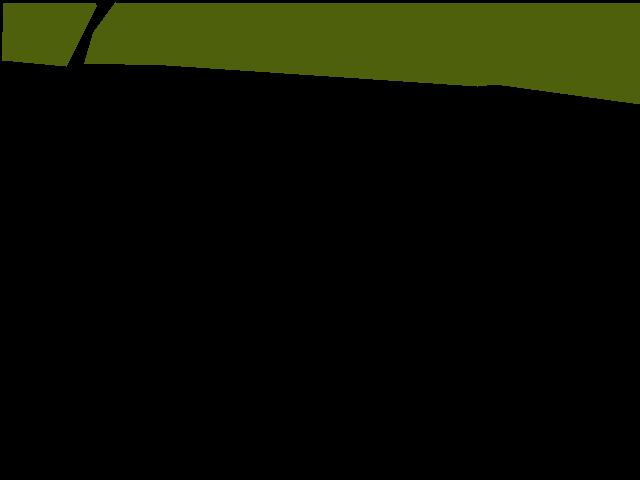Train: (2, 2, 640, 105)
